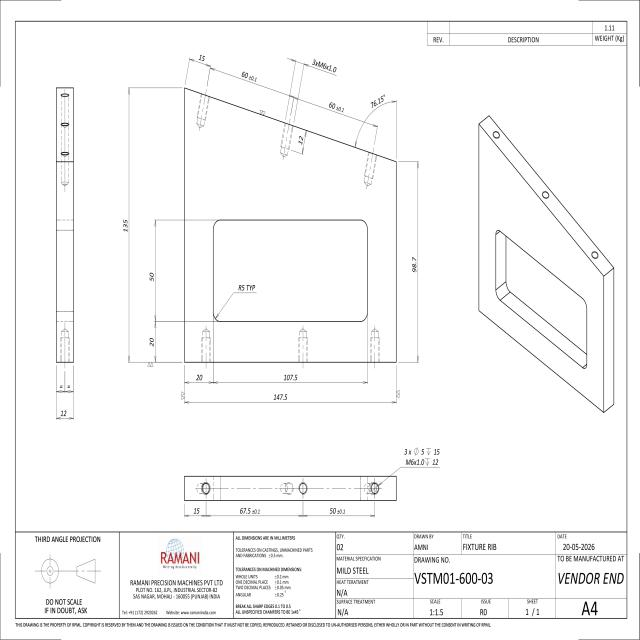dimension: (403, 446, 442, 468), (311, 56, 338, 75), (369, 92, 386, 110), (240, 69, 258, 83), (328, 100, 346, 114), (239, 505, 262, 515), (237, 282, 257, 293), (272, 391, 289, 402), (328, 505, 346, 515), (282, 372, 299, 382), (410, 255, 418, 274), (122, 217, 129, 234), (297, 133, 305, 147), (197, 53, 207, 63), (59, 408, 68, 419), (192, 505, 201, 515), (148, 271, 155, 283), (196, 372, 204, 382), (149, 336, 155, 348)
